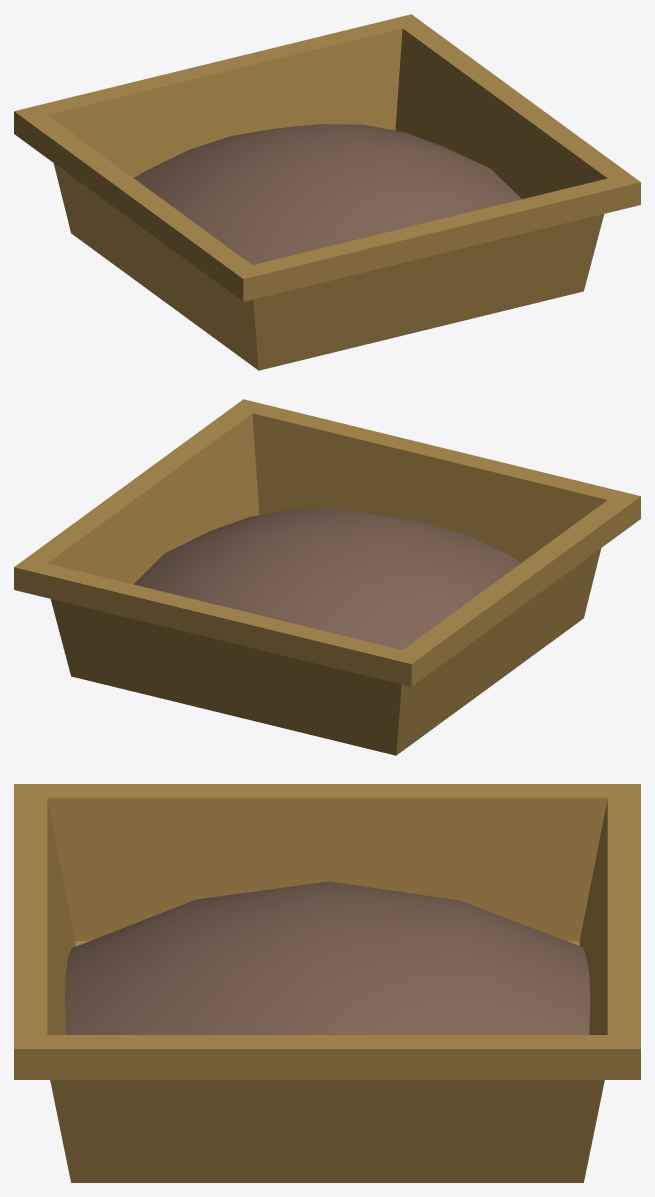
Rendered from Planter2x2.fbx.
3 views of the same model, one above another, from view 1: azimuth 30°, elevation 25°; view 2: azimuth 150°, elevation 25°; view 3: azimuth 270°, elevation 25° (orthographic). The views are drawn at different scales.
Parts seen in each view (by area): view 1: Planterboxmesh, Dirt; view 2: Planterboxmesh, Dirt; view 3: Planterboxmesh, Dirt.
Boxes of the visible parts, x1,y1,x2,y2 form: Planterboxmesh: [14, 14, 640, 370]; Dirt: [134, 124, 521, 264]; Planterboxmesh: [14, 399, 640, 755]; Dirt: [133, 509, 520, 649]; Planterboxmesh: [14, 784, 640, 1182]; Dirt: [65, 881, 590, 1034].
Bounding box in the file's own units: 1.98 × 0.5498 × 1.98.
